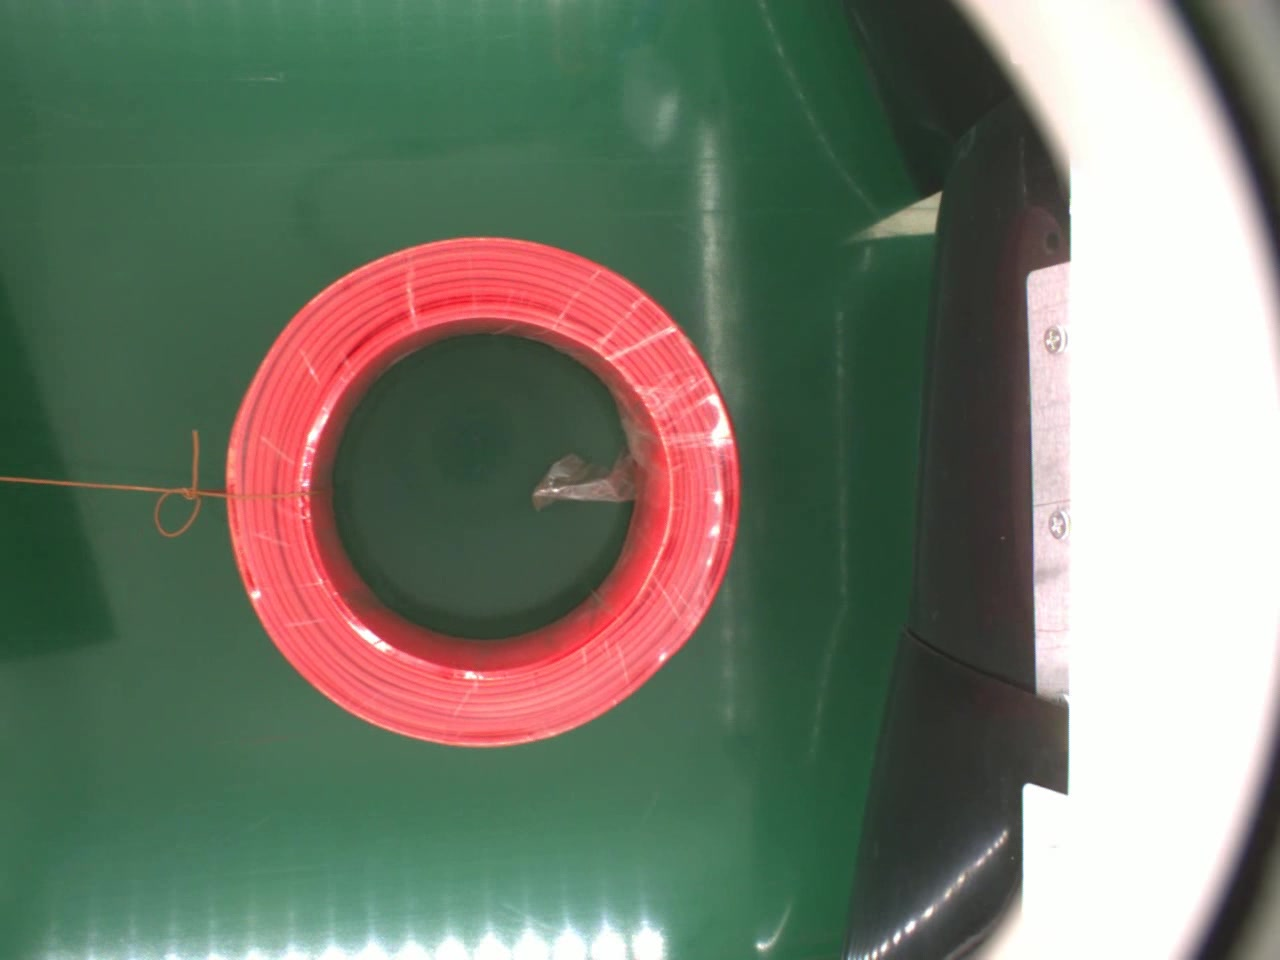red: (216, 231, 747, 752)
